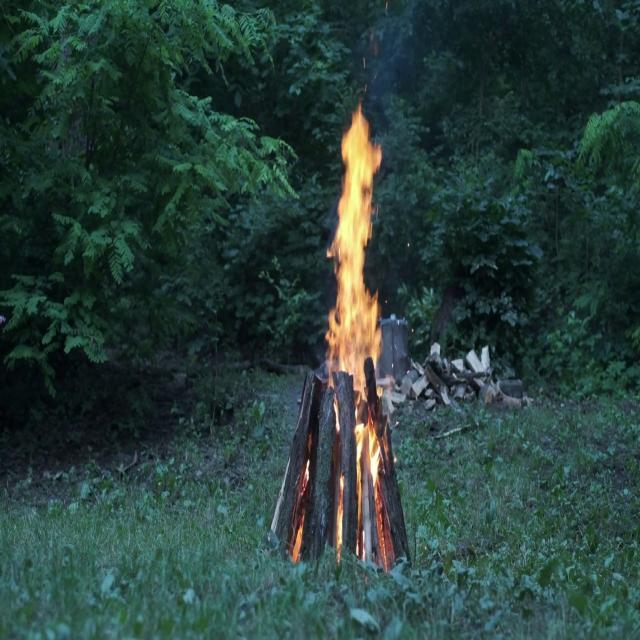Fire: (322, 96, 398, 540)
